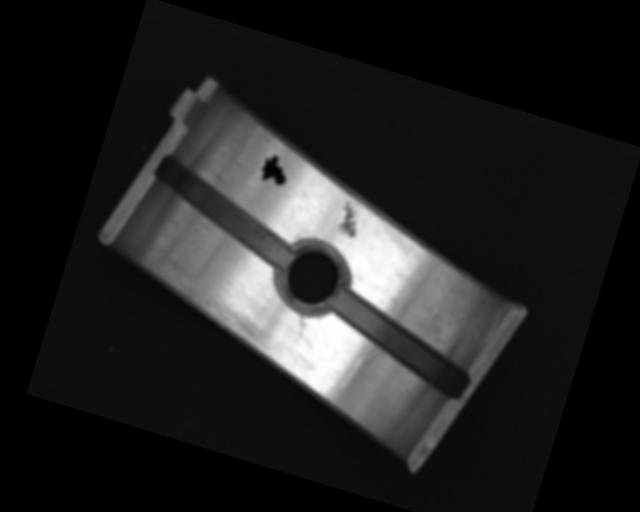blot: (257, 152, 292, 187)
bruise: (334, 200, 364, 239)
gap: (140, 154, 307, 271), (318, 290, 480, 398)
hole: (269, 234, 354, 321)
nick: (322, 350, 364, 407), (292, 312, 309, 339)
scratch: (138, 264, 281, 353)
